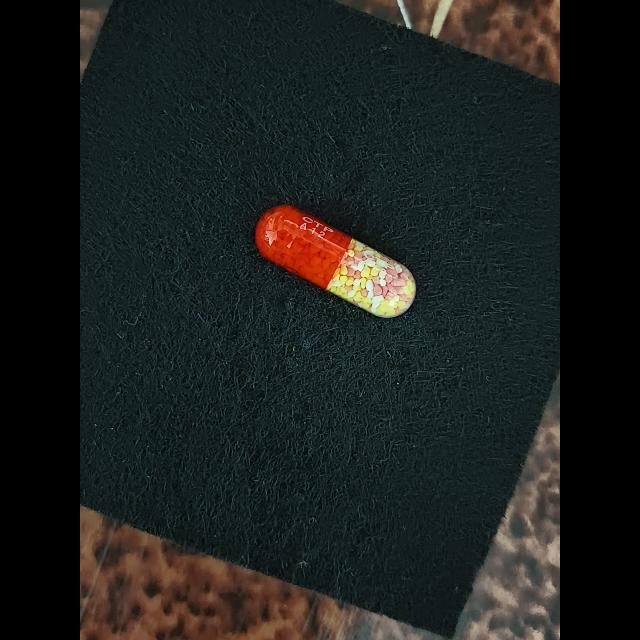Intact Capsule: (255, 205, 416, 318)
